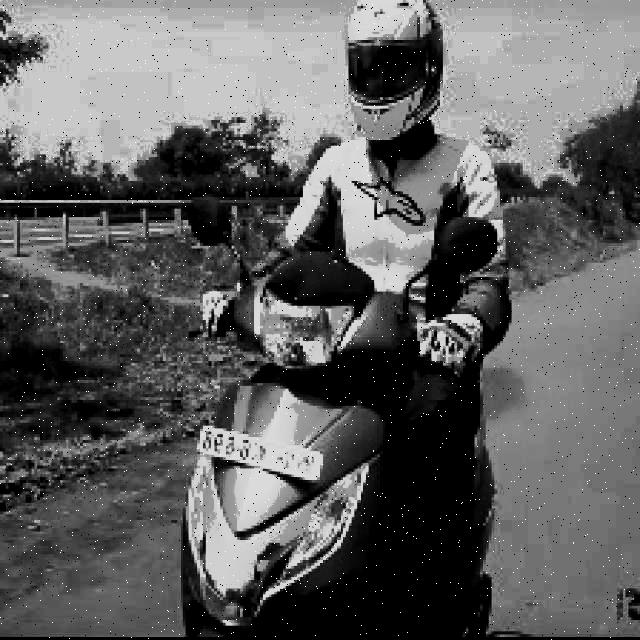Bike: (160, 234, 508, 640)
